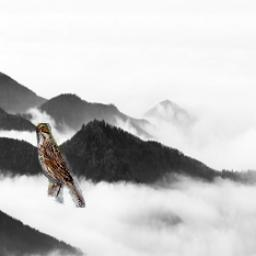Sparrow: (35, 124, 84, 209)
